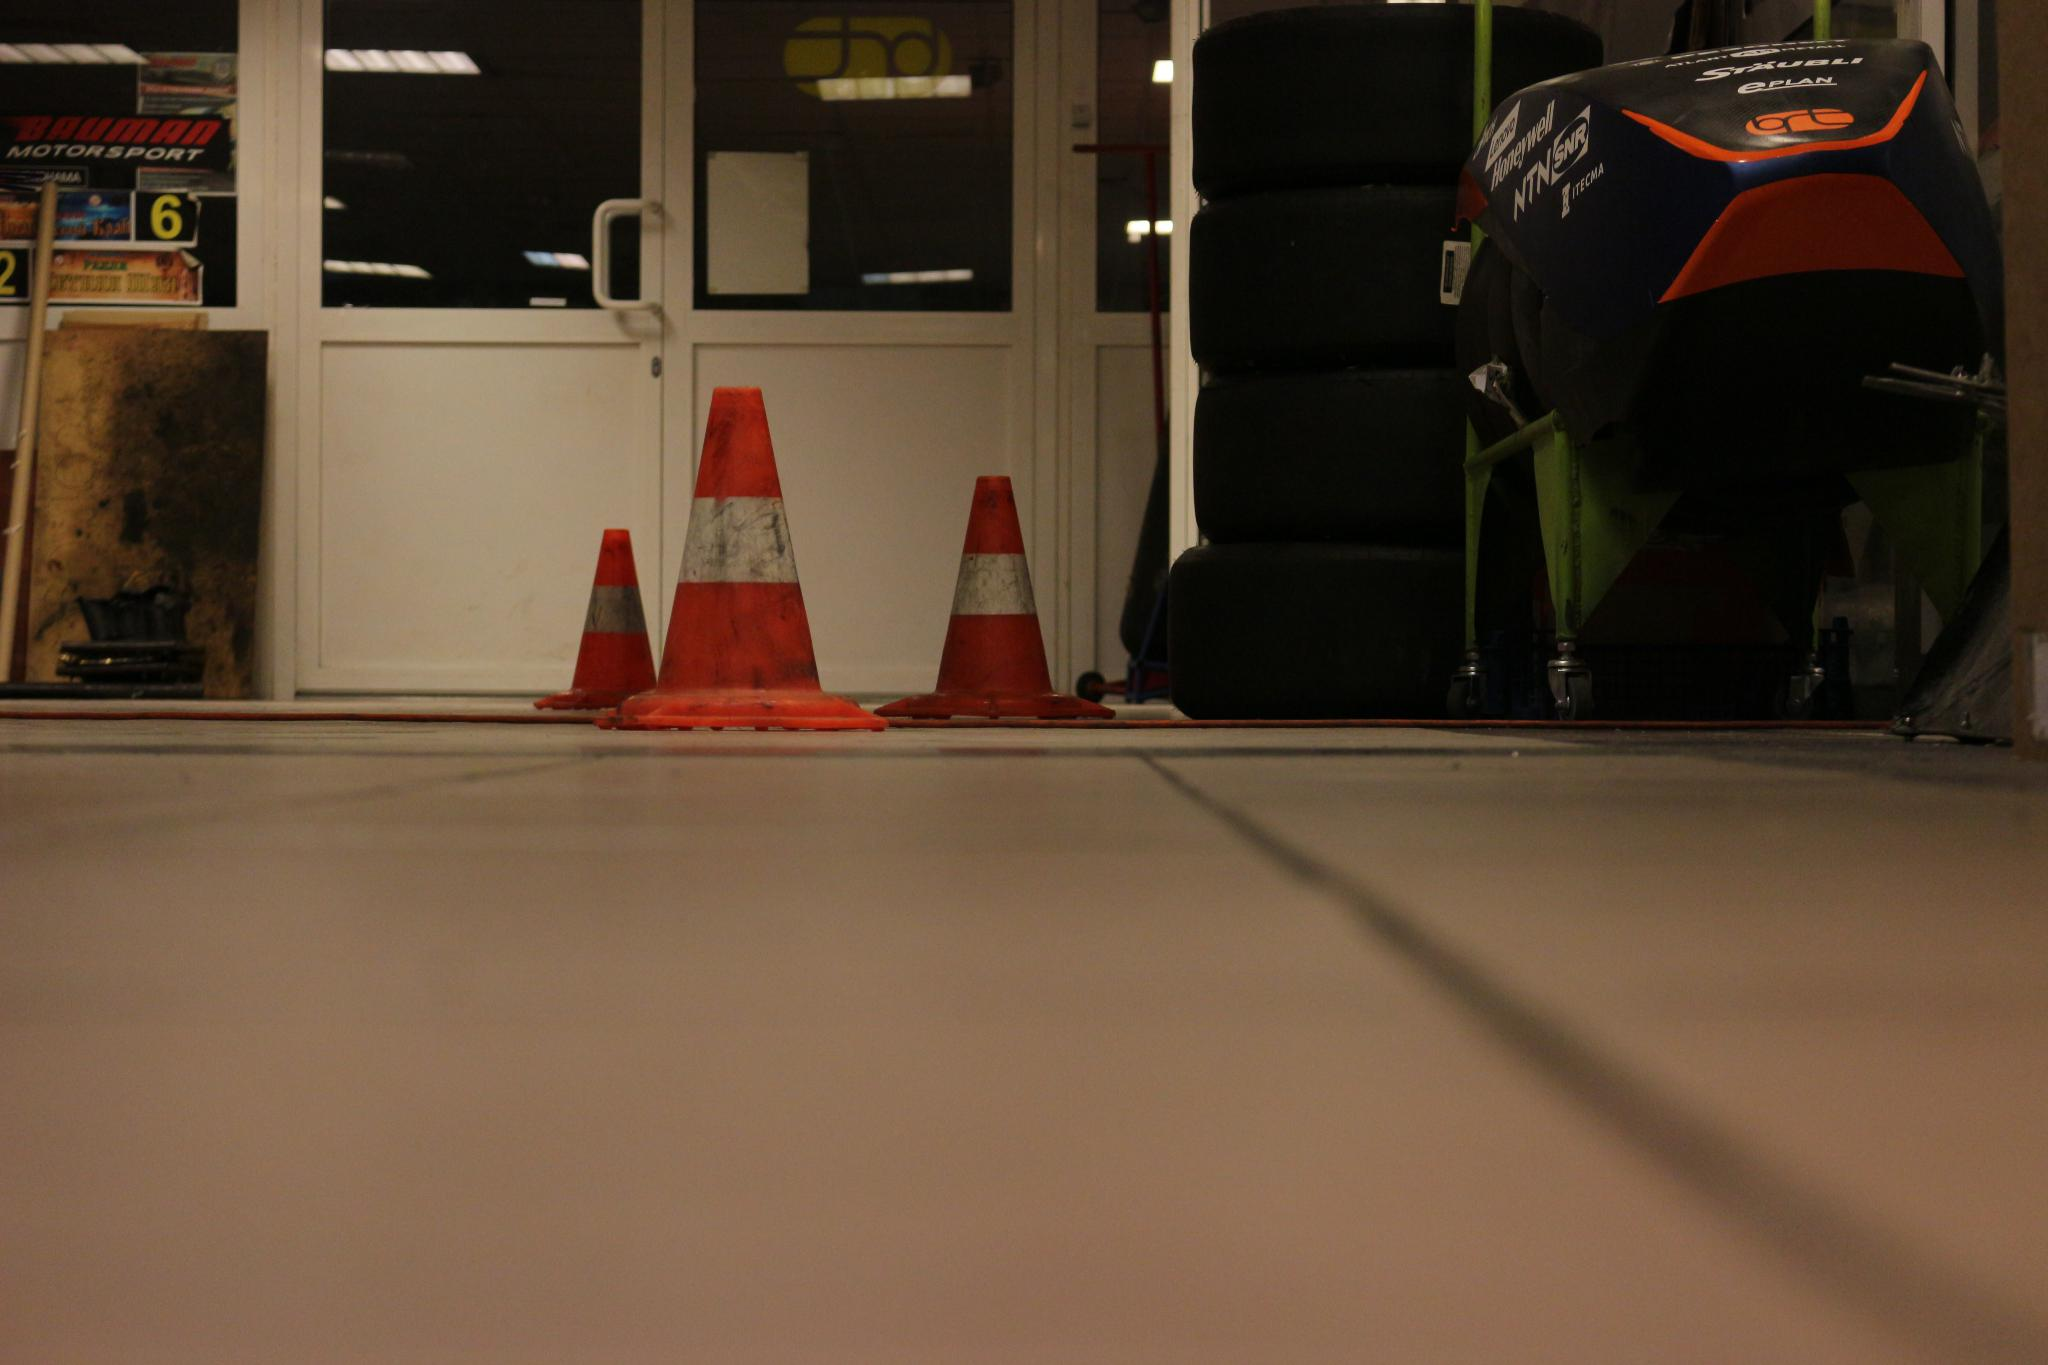Orange_Cone: (609, 381, 872, 736), (895, 469, 1098, 725), (544, 524, 673, 713)
